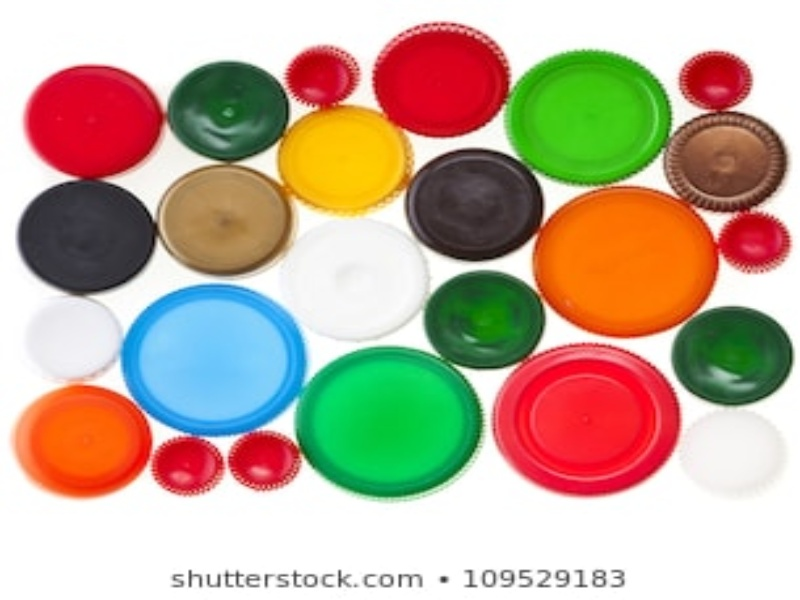bottle-cap: (490, 341, 683, 496), (296, 346, 484, 498), (119, 284, 304, 438), (533, 189, 720, 339), (503, 49, 675, 186), (285, 219, 431, 340), (21, 64, 167, 178), (400, 145, 546, 259), (369, 22, 515, 136), (14, 180, 160, 294), (10, 385, 153, 500), (152, 166, 295, 279), (276, 105, 414, 217), (165, 57, 291, 163), (661, 109, 789, 210), (674, 304, 794, 406), (424, 271, 542, 367), (681, 408, 787, 494), (23, 296, 122, 380), (285, 46, 362, 107), (717, 212, 791, 274), (679, 51, 754, 110), (230, 430, 301, 489), (155, 439, 224, 497)
